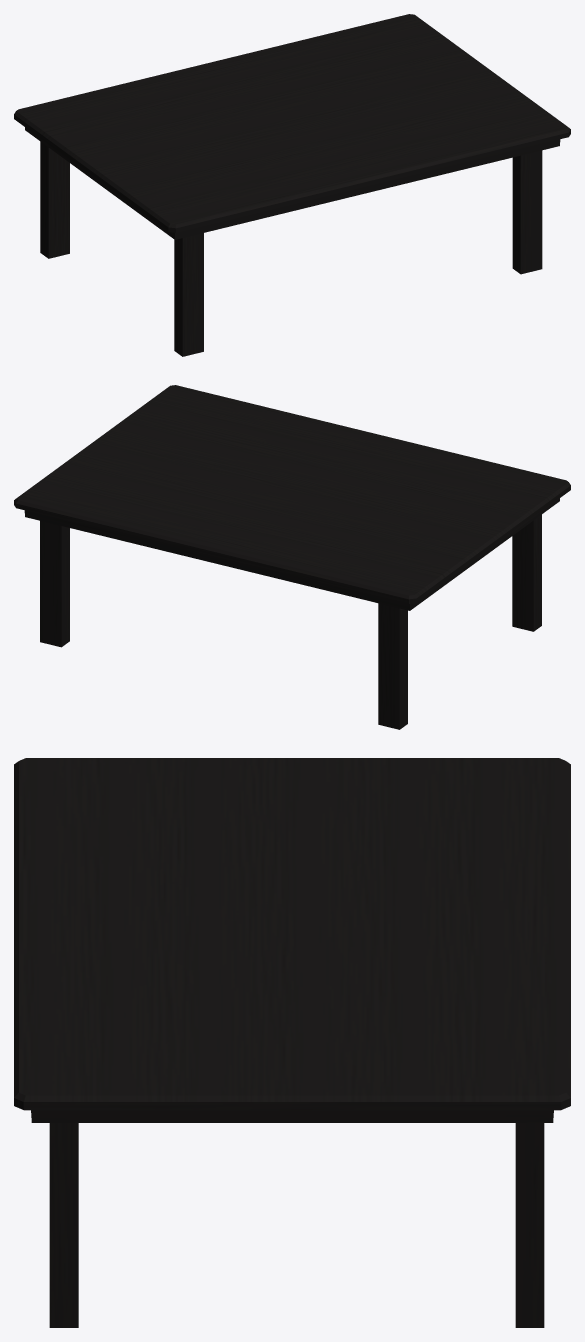
File: Dining_Room_Table_D.FBX
The picture shows the model from 3 angles, top to bottom: view 1: azimuth 30°, elevation 25°; view 2: azimuth 150°, elevation 25°; view 3: azimuth 270°, elevation 25°; orthographic projection. The views are drawn at different scales.
Visible parts, largest first — view 1: Dining_Room_Table; view 2: Dining_Room_Table; view 3: Dining_Room_Table.
Part boxes in pixels (x1=…): Dining_Room_Table: x1=14, y1=14, x2=570, y2=356; Dining_Room_Table: x1=14, y1=385, x2=570, y2=729; Dining_Room_Table: x1=14, y1=758, x2=570, y2=1327.
Size of the model in its own units: 450 by 153 by 310.
